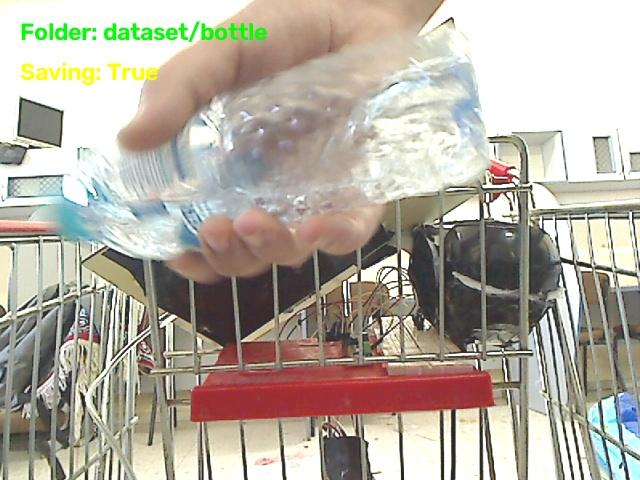Bottle: (59, 24, 489, 259)
